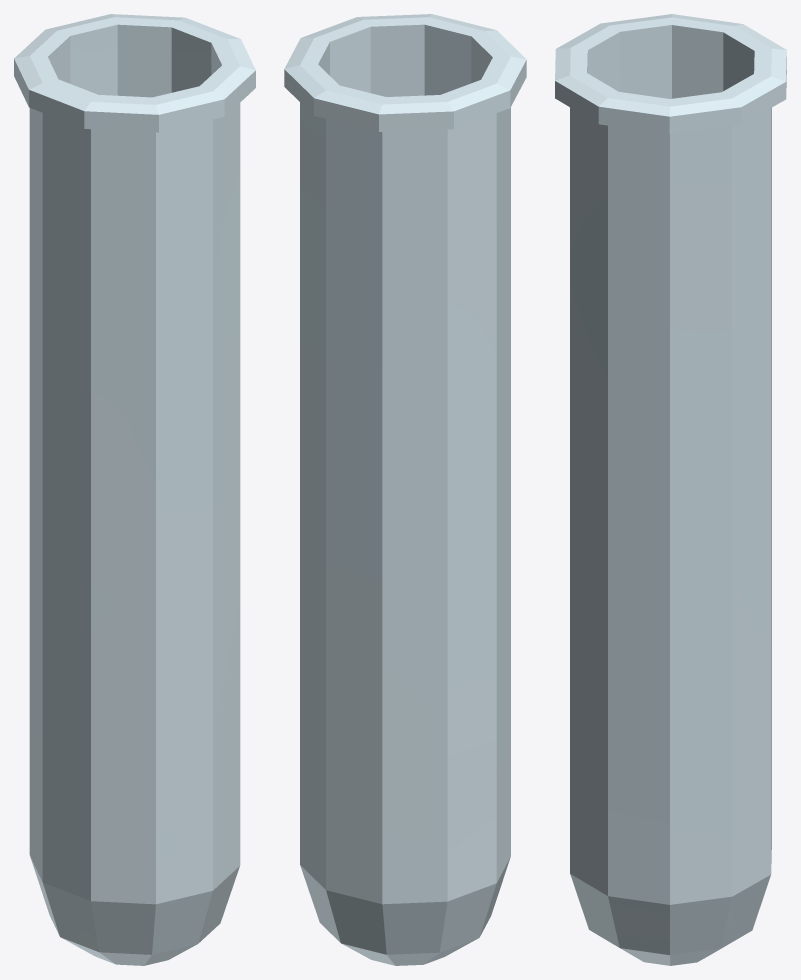
3 views of the same model, side by side, from view 1: azimuth 30°, elevation 25°; view 2: azimuth 150°, elevation 25°; view 3: azimuth 270°, elevation 25° (orthographic).
Visible parts, largest first — view 1: test_tube_1; view 2: test_tube_1; view 3: test_tube_1.
Part boxes in pixels (x1=…): test_tube_1: x1=14, y1=14, x2=255, y2=965; test_tube_1: x1=284, y1=14, x2=526, y2=965; test_tube_1: x1=555, y1=14, x2=786, y2=965.
Bounding box in the file's own units: 0.0291 × 0.1168 × 0.0278.
